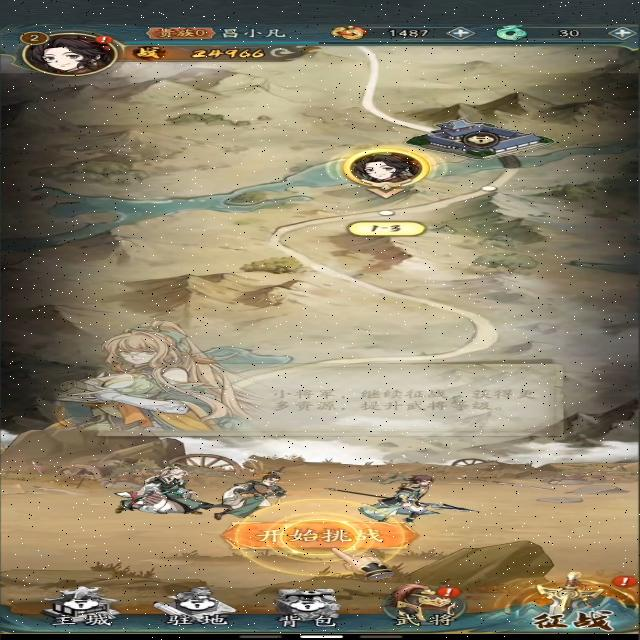hint-guide: (42, 316, 576, 442), (214, 496, 424, 578)
hint-reddot: (432, 584, 466, 600), (607, 574, 640, 588), (88, 32, 117, 46)
navigation-fight: (487, 568, 640, 632)
navigation-hero: (373, 581, 472, 629)
navigation-role: (16, 27, 129, 80)
navigation-station-off: (146, 583, 250, 630)
operation-confirm: (221, 521, 417, 551)
